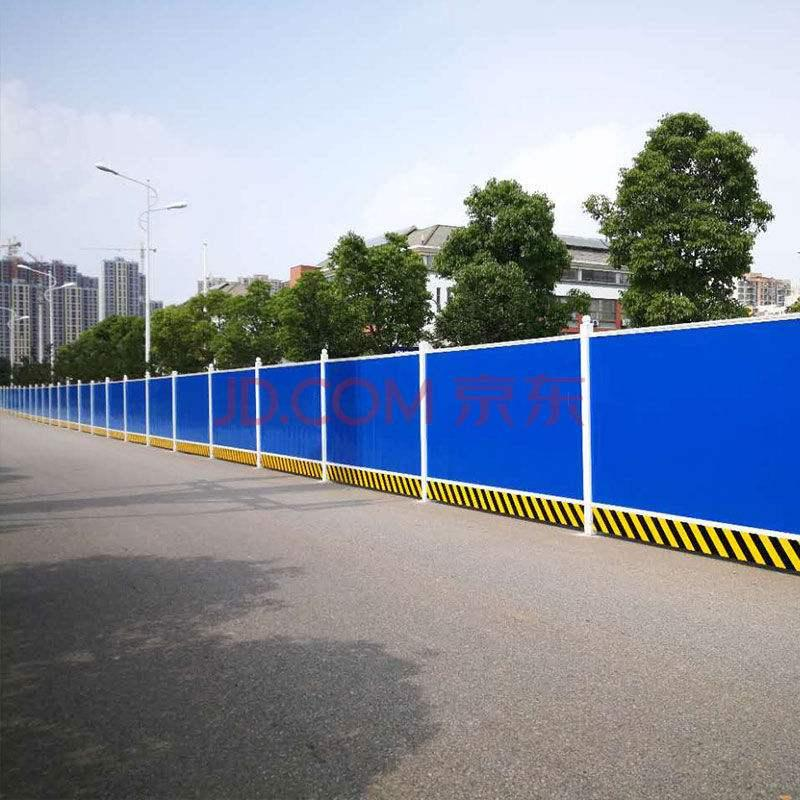sign: (409, 309, 800, 558), (159, 356, 381, 493)
